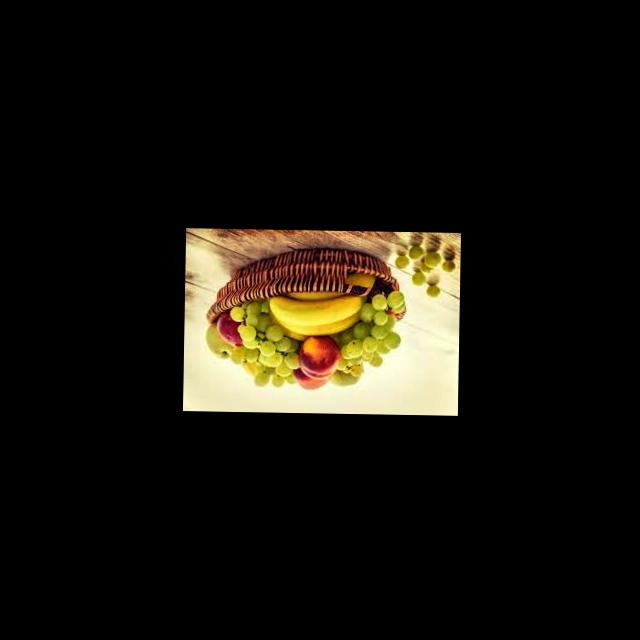grape: (394, 244, 455, 297)
